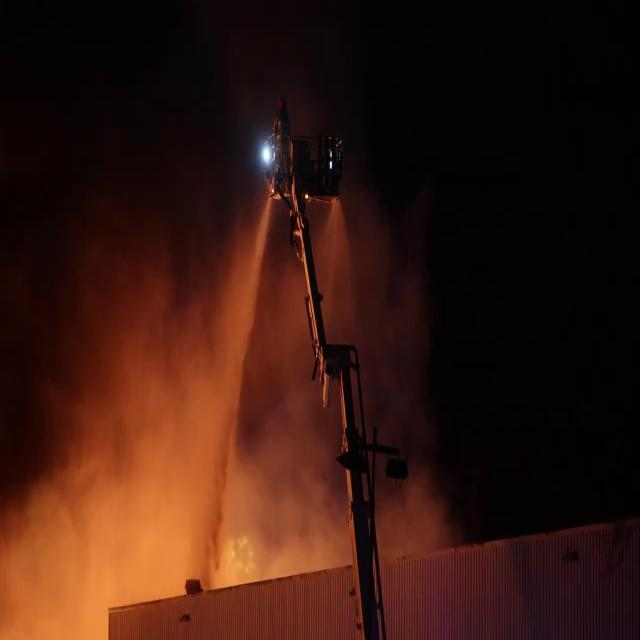Smoke: (0, 149, 334, 611)
